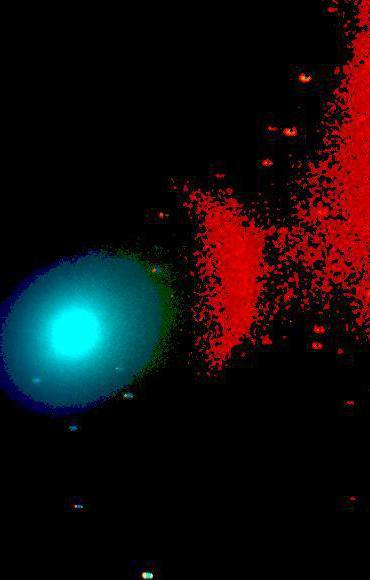star: (268, 215, 298, 245)
